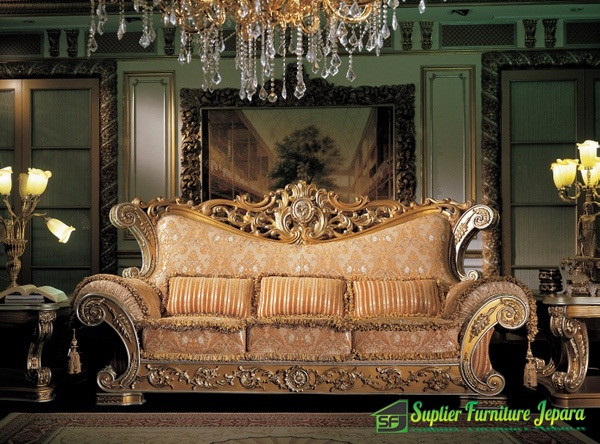Carving Chair: (88, 190, 531, 418)
